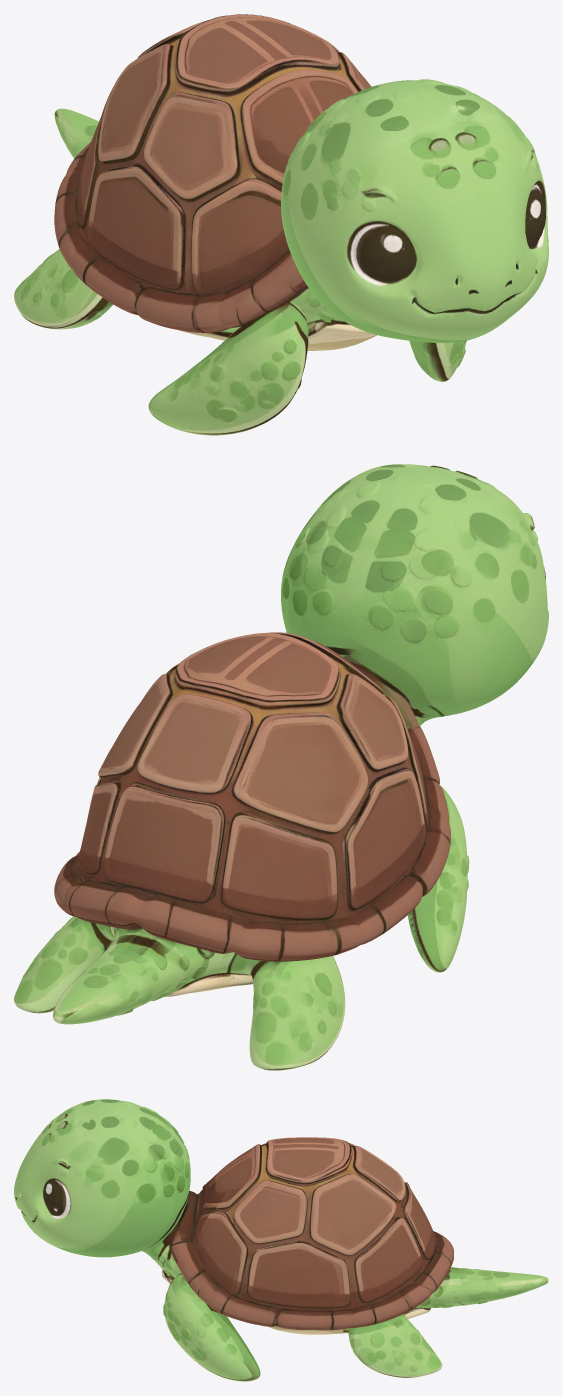
Rendered from Tartaruga.glb.
The picture shows the model from 3 angles, top to bottom: view 1: azimuth 30°, elevation 25°; view 2: azimuth 150°, elevation 25°; view 3: azimuth 270°, elevation 25°; orthographic projection. The views are drawn at different scales.
Bounding box in the file's own units: 0.7592 × 0.9129 × 1.9.
1 material, 1 textured.
